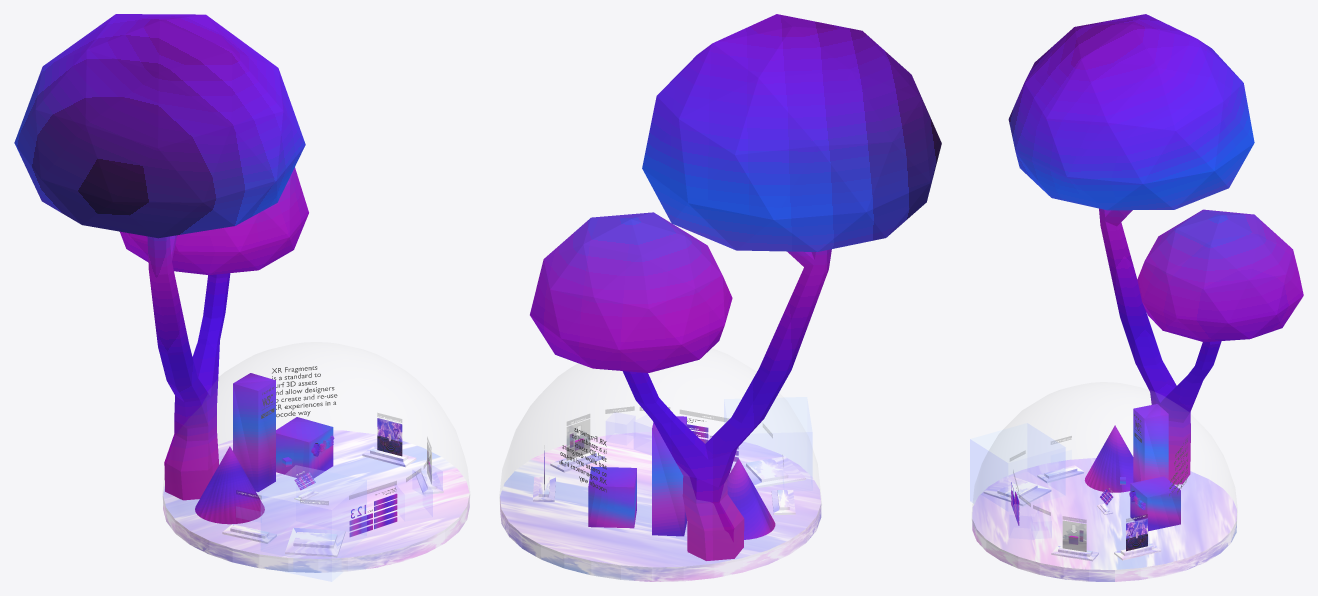
Rendered from example.gltf.
The picture shows the model from 3 angles, left to right: view 1: azimuth 30°, elevation 25°; view 2: azimuth 150°, elevation 25°; view 3: azimuth 270°, elevation 25°; orthographic projection. The views are drawn at different scales.
Parts seen in each view (by area): view 1: tree, floorstone, Cube, primitives, cube, step.005, cube.002, Text.001, door, step.006; view 2: tree, floorstone, primitives, Cube, cube, step.005, portal_local_door, Text.001, cube.001, cube.002, step.001, step.006; view 3: tree, floorstone, Cube, primitives, cube, step.005, cube.002, portal_local_door, door, cube.001, step.006.
Boxes of the visible parts, x1,y1,x2,y2 form: tree: (14, 14, 308, 500); floorstone: (163, 430, 469, 572); Cube: (261, 465, 366, 581); primitives: (195, 373, 275, 524); cube: (276, 417, 333, 480); step.005: (285, 527, 345, 557); cube.002: (395, 479, 432, 521); Text.001: (272, 366, 337, 417); door: (377, 418, 402, 456); step.006: (222, 524, 276, 543); tree: (530, 14, 941, 560); floorstone: (500, 432, 821, 581); primitives: (652, 416, 775, 539); Cube: (724, 397, 812, 487); cube: (588, 466, 636, 528); step.005: (730, 456, 805, 488); portal_local_door: (566, 419, 590, 460); Text.001: (560, 428, 606, 492); cube.001: (606, 412, 635, 444); cube.002: (634, 415, 652, 455); step.001: (550, 449, 605, 472); step.006: (771, 490, 795, 514); tree: (1008, 14, 1303, 484); floorstone: (972, 458, 1236, 581); Cube: (970, 423, 1065, 503); primitives: (1084, 404, 1168, 492); cube: (1130, 476, 1180, 531); step.005: (983, 476, 1051, 506); cube.002: (1009, 504, 1038, 539); portal_local_door: (1062, 520, 1086, 551); door: (1126, 518, 1147, 551); cube.001: (1031, 513, 1051, 538); step.006: (1037, 465, 1084, 483).
Size of what is drawn, in the model's own units: 30.08 by 36.85 by 25.11.
14 materials, 3 textured.
